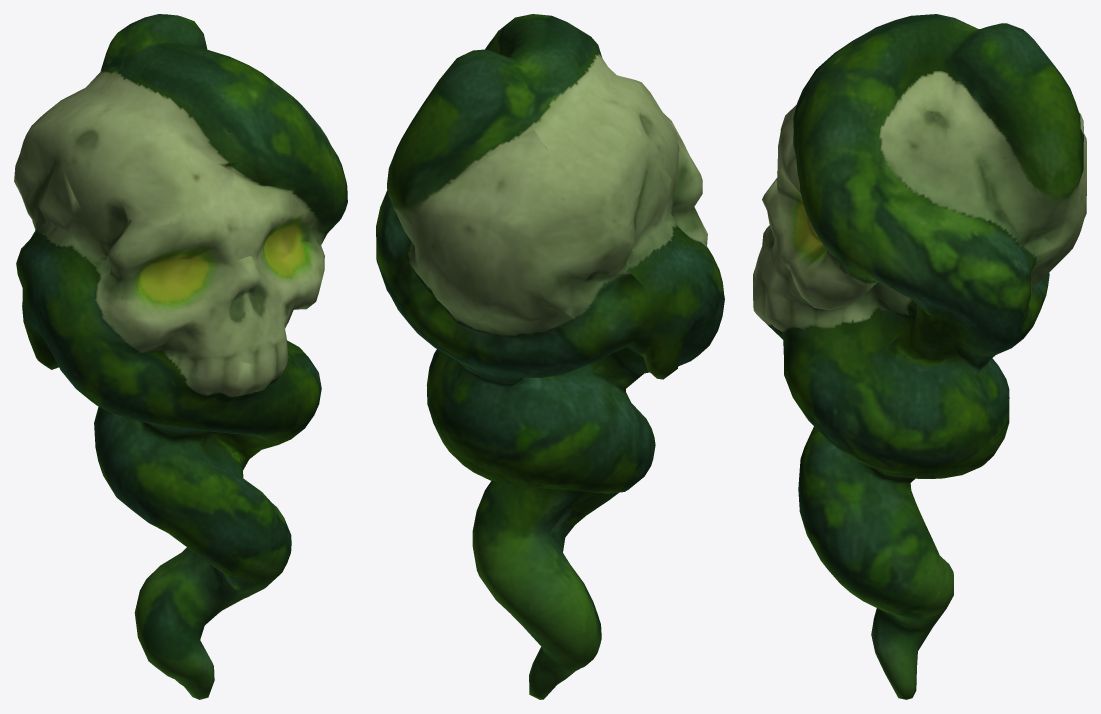
The model's file is fen_wisp_v2.glb.
The picture shows the model from 3 angles, left to right: view 1: azimuth 30°, elevation 25°; view 2: azimuth 150°, elevation 25°; view 3: azimuth 270°, elevation 25°; orthographic projection. The views are drawn at different scales.
Parts seen in each view (by area): view 1: fen-wisp-m0-4000-v1; view 2: fen-wisp-m0-4000-v1; view 3: fen-wisp-m0-4000-v1.
Boxes of the visible parts, x1=… form: fen-wisp-m0-4000-v1: x1=14, y1=14, x2=347, y2=699; fen-wisp-m0-4000-v1: x1=376, y1=14, x2=724, y2=699; fen-wisp-m0-4000-v1: x1=753, y1=14, x2=1086, y2=699.
Size of the model in its own units: 0.4677 by 1 by 0.4514.
Materials: 1 (1 with a texture image).
